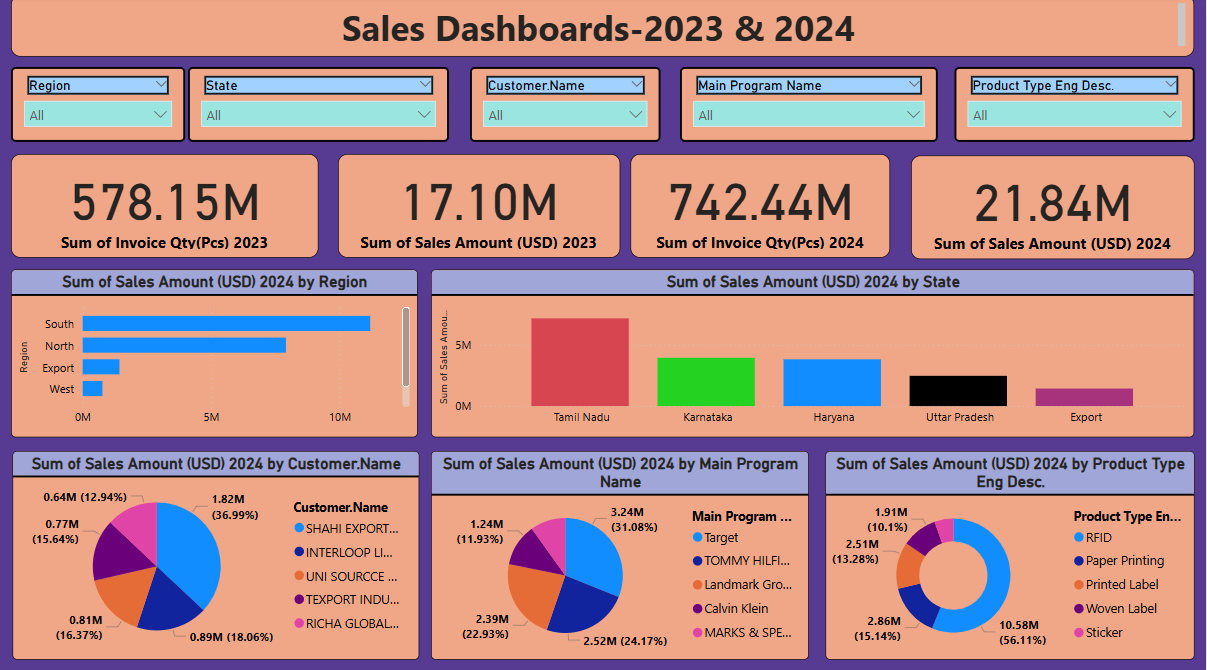

What the dashboard file says about the page in this screenshot:
{"tool":"powerbi","page":{"name":"main","canvas":[1280,720],"ordinal":0},"visuals":[{"type":"slicer","fields":{"Values":["main.Region"]},"box":[12.7,76.3,184.5,79.5],"z":0},{"type":"card","fields":{"Values":["Sum(main.Sales Amount (USD) 2024)"]},"box":[967.1,170.2,300.6,109.8],"z":1000},{"type":"card","fields":{"Values":["Sum(main.Sales Amount (USD) 2023)"]},"box":[359.5,168.6,299,109.8],"z":2000},{"type":"card","fields":{"Values":["Sum(main.Invoice Qty(Pcs) 2023)"]},"box":[12.7,168.6,326.1,109.8],"z":3000},{"type":"card","fields":{"Values":["Sum(main.Invoice Qty(Pcs) 2024)"]},"box":[669.6,168.6,275.2,109.8],"z":4000},{"type":"slicer","fields":{"Values":["main.Customer.Name"]},"box":[499.5,76.3,202,79.5],"z":5000},{"type":"slicer","fields":{"Values":["main.Main Program Name"]},"box":[722.1,76.3,273.6,79.5],"z":6000},{"type":"slicer","fields":{"Values":["main.Product Type Eng Desc."]},"box":[1013.2,76.3,254.5,79.5],"z":7000},{"type":"slicer","fields":{"Values":["main.State"]},"box":[200.4,76.3,276.8,79.5],"z":8000},{"type":"textbox","box":[12.7,0,1255,65.2],"z":9000},{"type":"pieChart","fields":{"Category":["main.Customer.Name"],"Y":["Sum(main.Sales Amount (USD) 2024)"]},"box":[14.3,483.5,431.1,221.1],"z":10000},{"type":"pieChart","fields":{"Category":["main.Main Program Name"],"Y":["Sum(main.Sales Amount (USD) 2024)"]},"box":[458.1,483.5,400.8,221.1],"z":11000},{"type":"donutChart","fields":{"Category":["main.Product Type Eng Desc."],"Y":["Sum(main.Sales Amount (USD) 2024)"]},"box":[876.4,483.5,391.3,221.1],"z":12000},{"type":"clusteredBarChart","fields":{"Category":["main.Region"],"Y":["Sum(main.Sales Amount (USD) 2024)"]},"box":[12.7,291.1,431.1,178.1],"z":13000},{"type":"clusteredColumnChart","fields":{"Category":["main.State"],"Y":["Sum(main.Sales Amount (USD) 2024)"]},"box":[458.1,291.1,809.6,178.1],"z":14000}]}

Visuals, with their boxes in screenshot pixels (x1, y1, x2, y2), scaled from the page's 1280x720 canvas onto the 1207x670 screenshot:
slicer - main.Region: [12,71,186,145]
card - Sum(main.Sales Amount (USD) 2024): [912,158,1195,261]
card - Sum(main.Sales Amount (USD) 2023): [339,157,621,259]
card - Sum(main.Invoice Qty(Pcs) 2023): [12,157,319,259]
card - Sum(main.Invoice Qty(Pcs) 2024): [631,157,891,259]
slicer - main.Customer.Name: [471,71,661,145]
slicer - main.Main Program Name: [681,71,939,145]
slicer - main.Product Type Eng Desc.: [955,71,1195,145]
slicer - main.State: [189,71,450,145]
textbox: [12,0,1195,61]
pieChart - main.Customer.Name x Sum(main.Sales Amount (USD) 2024): [13,450,420,656]
pieChart - main.Main Program Name x Sum(main.Sales Amount (USD) 2024): [432,450,810,656]
donutChart - main.Product Type Eng Desc. x Sum(main.Sales Amount (USD) 2024): [826,450,1195,656]
clusteredBarChart - main.Region x Sum(main.Sales Amount (USD) 2024): [12,271,418,437]
clusteredColumnChart - main.State x Sum(main.Sales Amount (USD) 2024): [432,271,1195,437]
